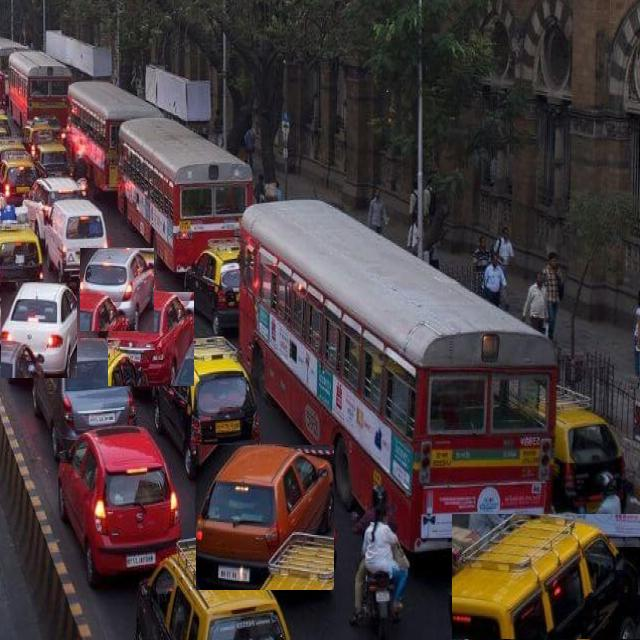bus: (240, 200, 556, 551), (118, 120, 252, 272)
car: (452, 514, 640, 639), (196, 445, 334, 590), (58, 427, 180, 584), (152, 336, 260, 476), (34, 341, 134, 456), (108, 293, 194, 386), (1, 282, 76, 378), (80, 249, 154, 331), (45, 198, 108, 289), (185, 238, 239, 333)
